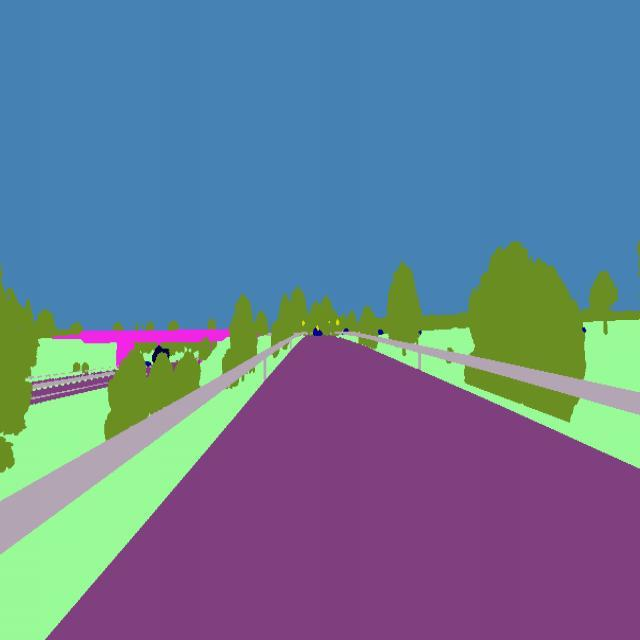safe: (310, 326, 326, 338), (374, 328, 385, 336), (341, 326, 351, 334)
